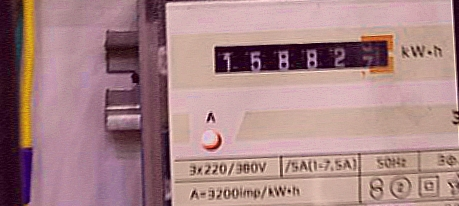1: (219, 49, 234, 72)
2: (330, 45, 347, 70)
5: (247, 48, 262, 74)
7: (360, 51, 373, 68)
8: (303, 47, 318, 72), (275, 48, 289, 72)
screen: (203, 26, 403, 92)
